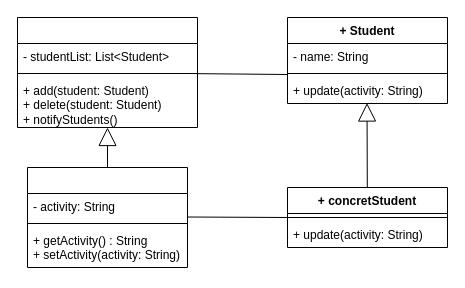
Image size: 465x288. Some labels were removed from this diagram. Here are the shapes that lost their labels. From the top down, the box of each, then its label:
(16, 16, 198, 128): + Teacher
(26, 166, 188, 268): + concretSubject
